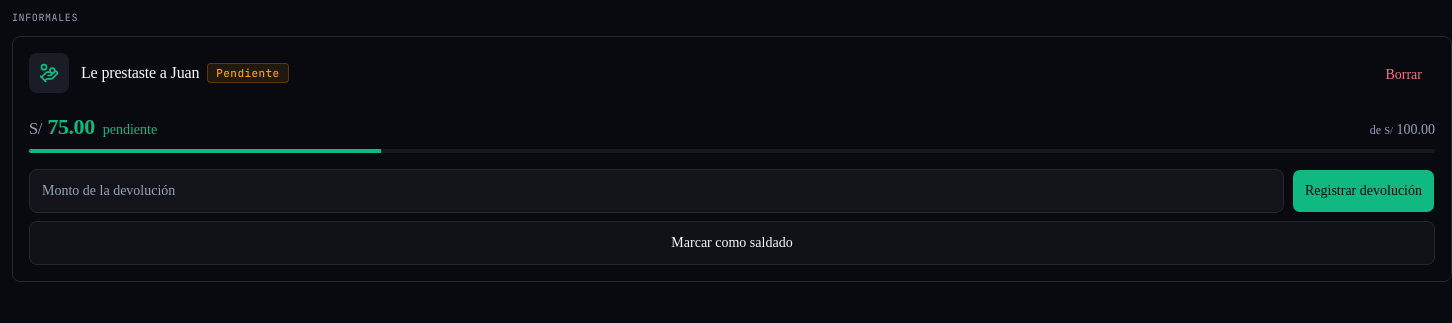
it: DebtList › shows the domain error when the repository rejects the repayment
Type "500" into the field labelled "Monto de la devolución". click: (656, 191)
box: x1=29 y1=169 x2=1284 y2=213
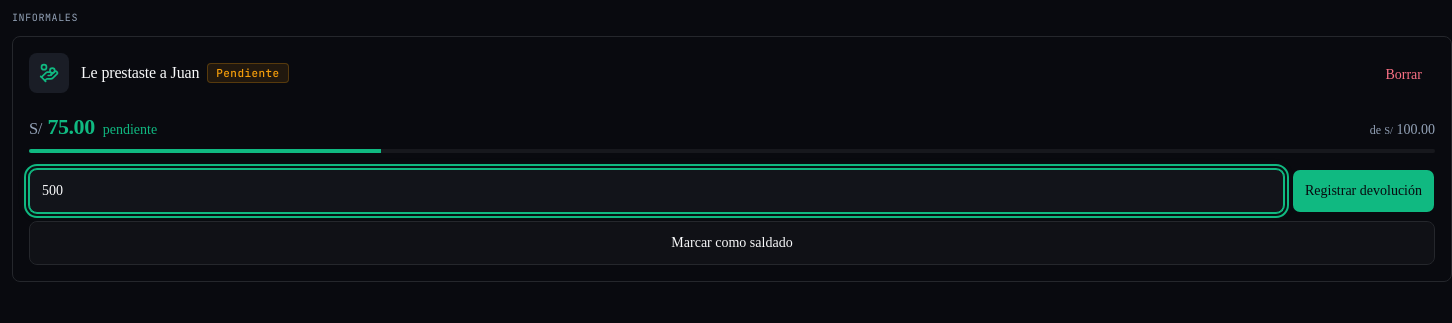
Click the button "Registrar devolución". click: (1364, 191)
box: x1=1292 y1=169 x2=1435 y2=213
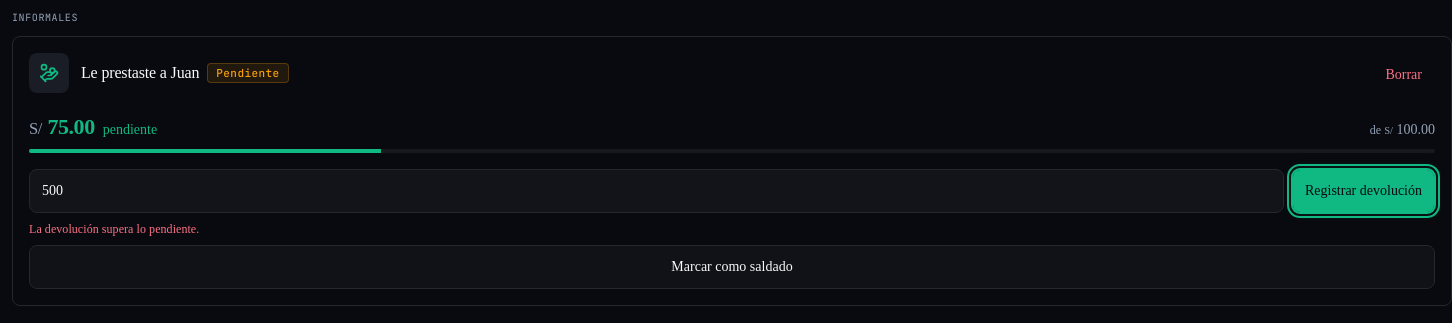
Expected: the text "La devolución supera lo pendiente." is shown, x1=29 y1=222 x2=199 y2=236
